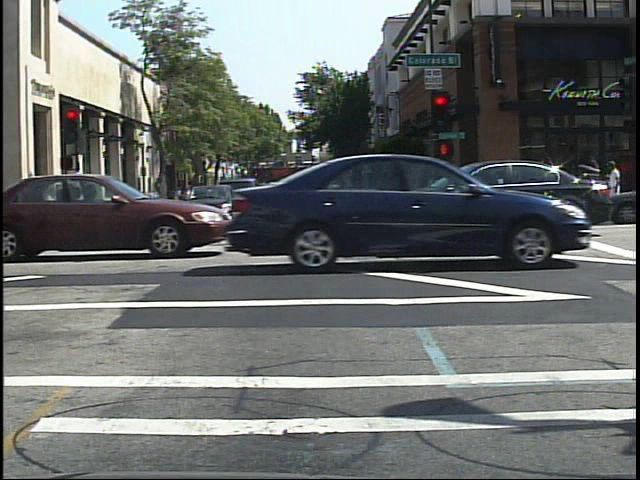person: (602, 156, 628, 221)
